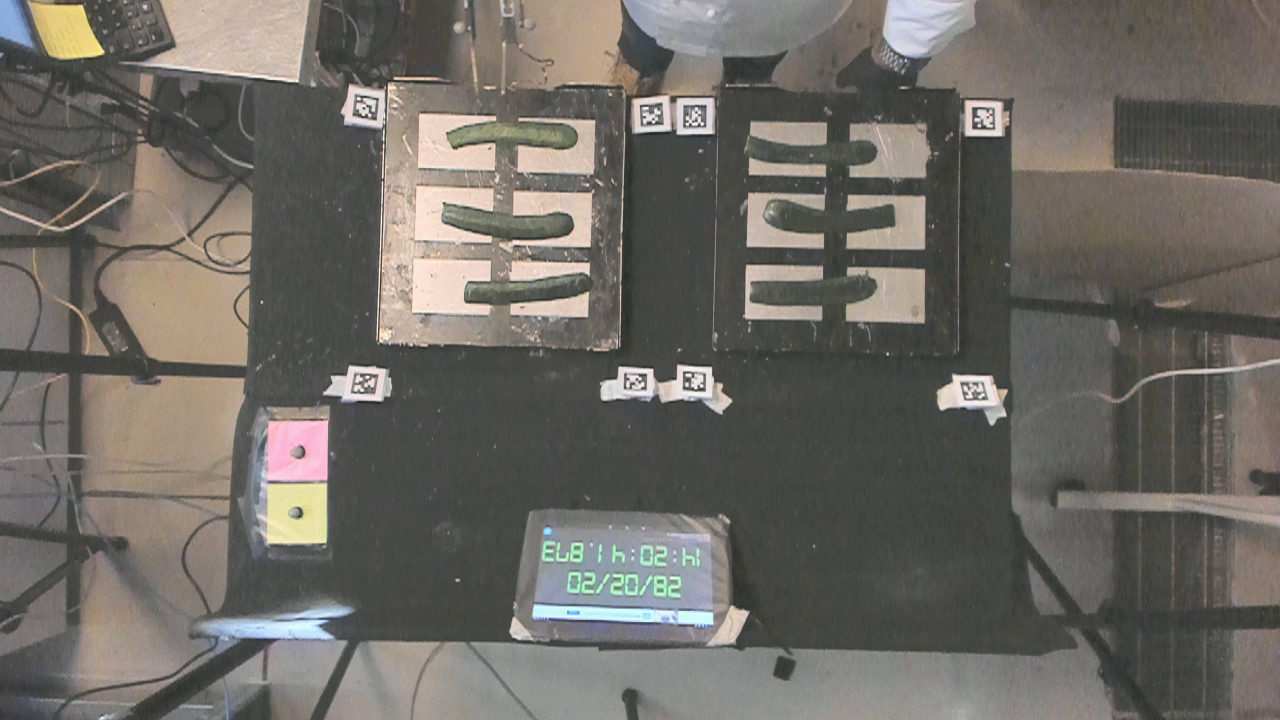marker: (267, 419, 329, 480)
zucchini: (440, 195, 577, 241), (446, 115, 579, 158), (759, 194, 894, 233), (741, 127, 876, 165), (461, 273, 594, 302), (745, 275, 876, 304)
